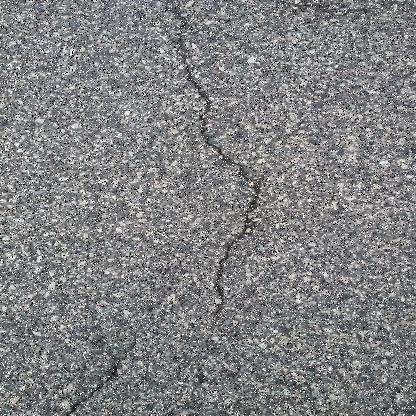Cracks: (164, 0, 279, 328), (53, 341, 139, 416), (78, 0, 378, 15)
